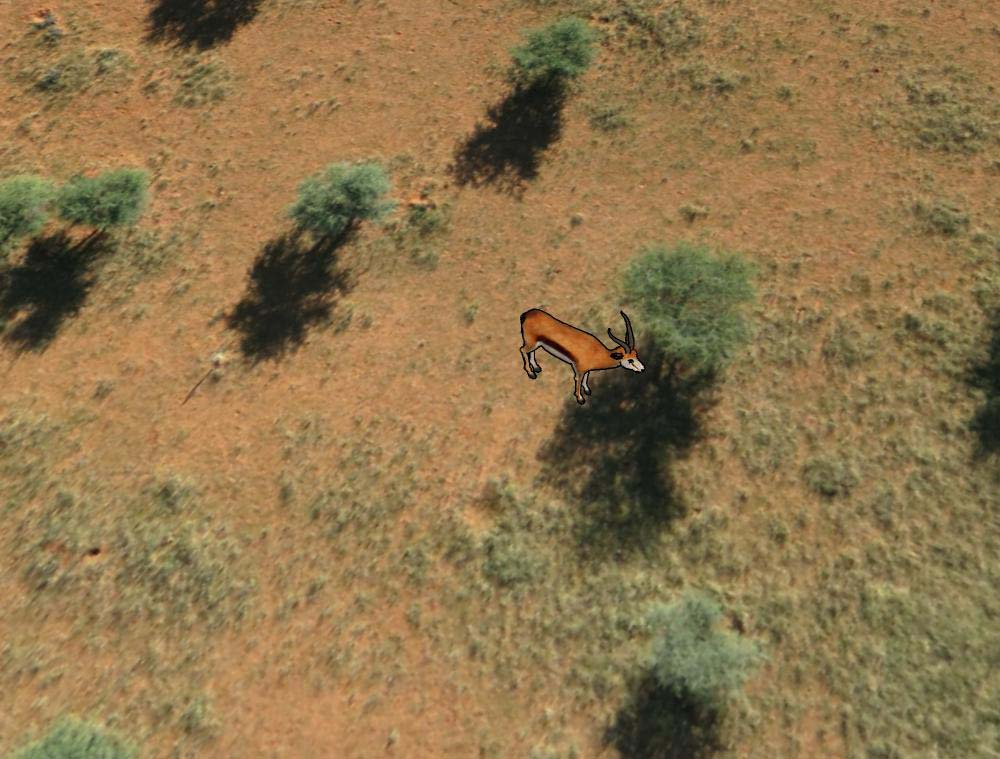springbok: (516, 300, 646, 405)
